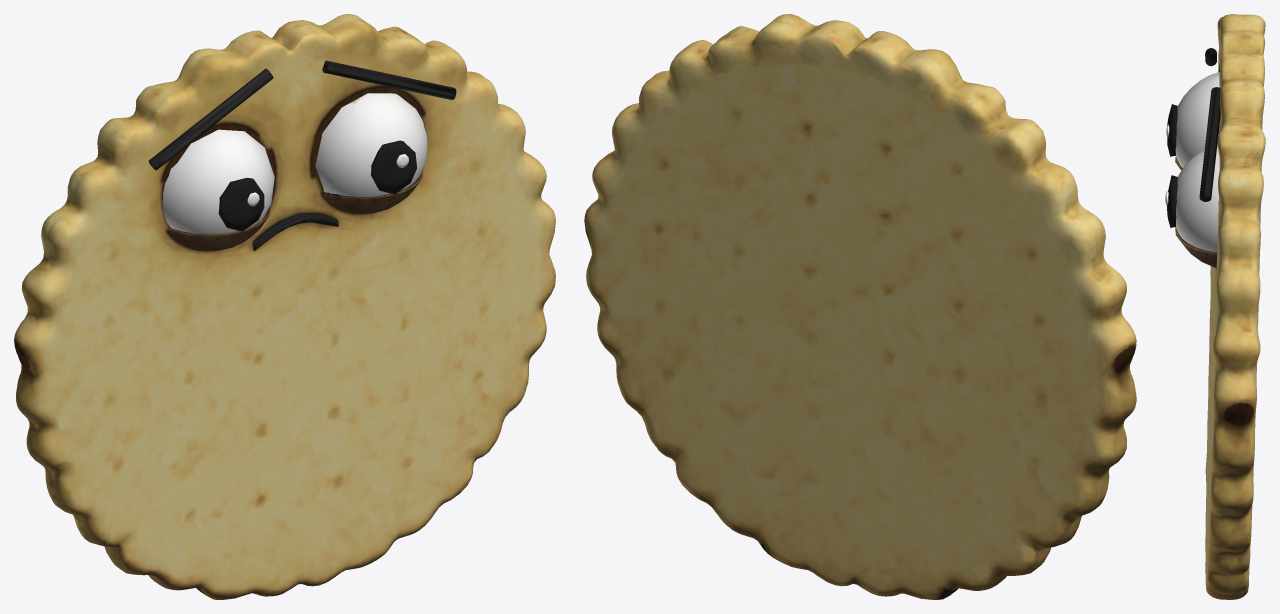
File: CHAR_BabyBiscuit.fbx
3 views of the same model, side by side, from view 1: azimuth 30°, elevation 25°; view 2: azimuth 150°, elevation 25°; view 3: azimuth 270°, elevation 25° (orthographic). The views are drawn at different scales.
Visible parts, largest first — view 1: CHAR_BabyBiscuit; view 2: CHAR_BabyBiscuit; view 3: CHAR_BabyBiscuit.
Boxes of the visible parts, x1,y1,x2,y2 form: CHAR_BabyBiscuit: (14, 14, 555, 599); CHAR_BabyBiscuit: (584, 14, 1136, 599); CHAR_BabyBiscuit: (1165, 14, 1265, 599).
Size of the model in its own units: 1.08 by 1.06 by 0.1827.
Materials: 1 (1 with a texture image).
